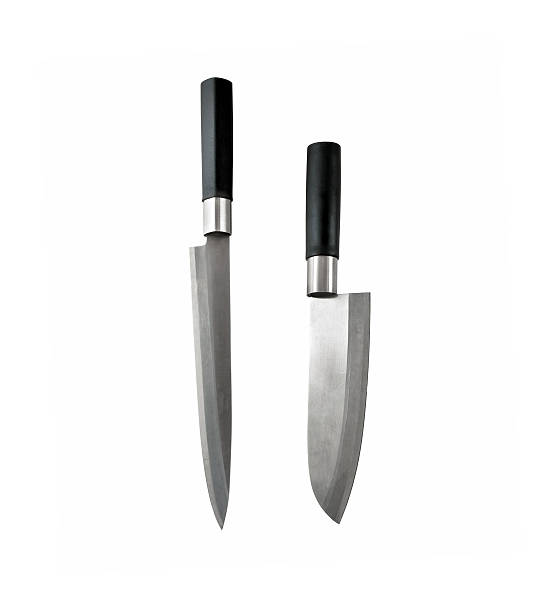knife: (305, 140, 372, 526), (188, 75, 233, 529)
